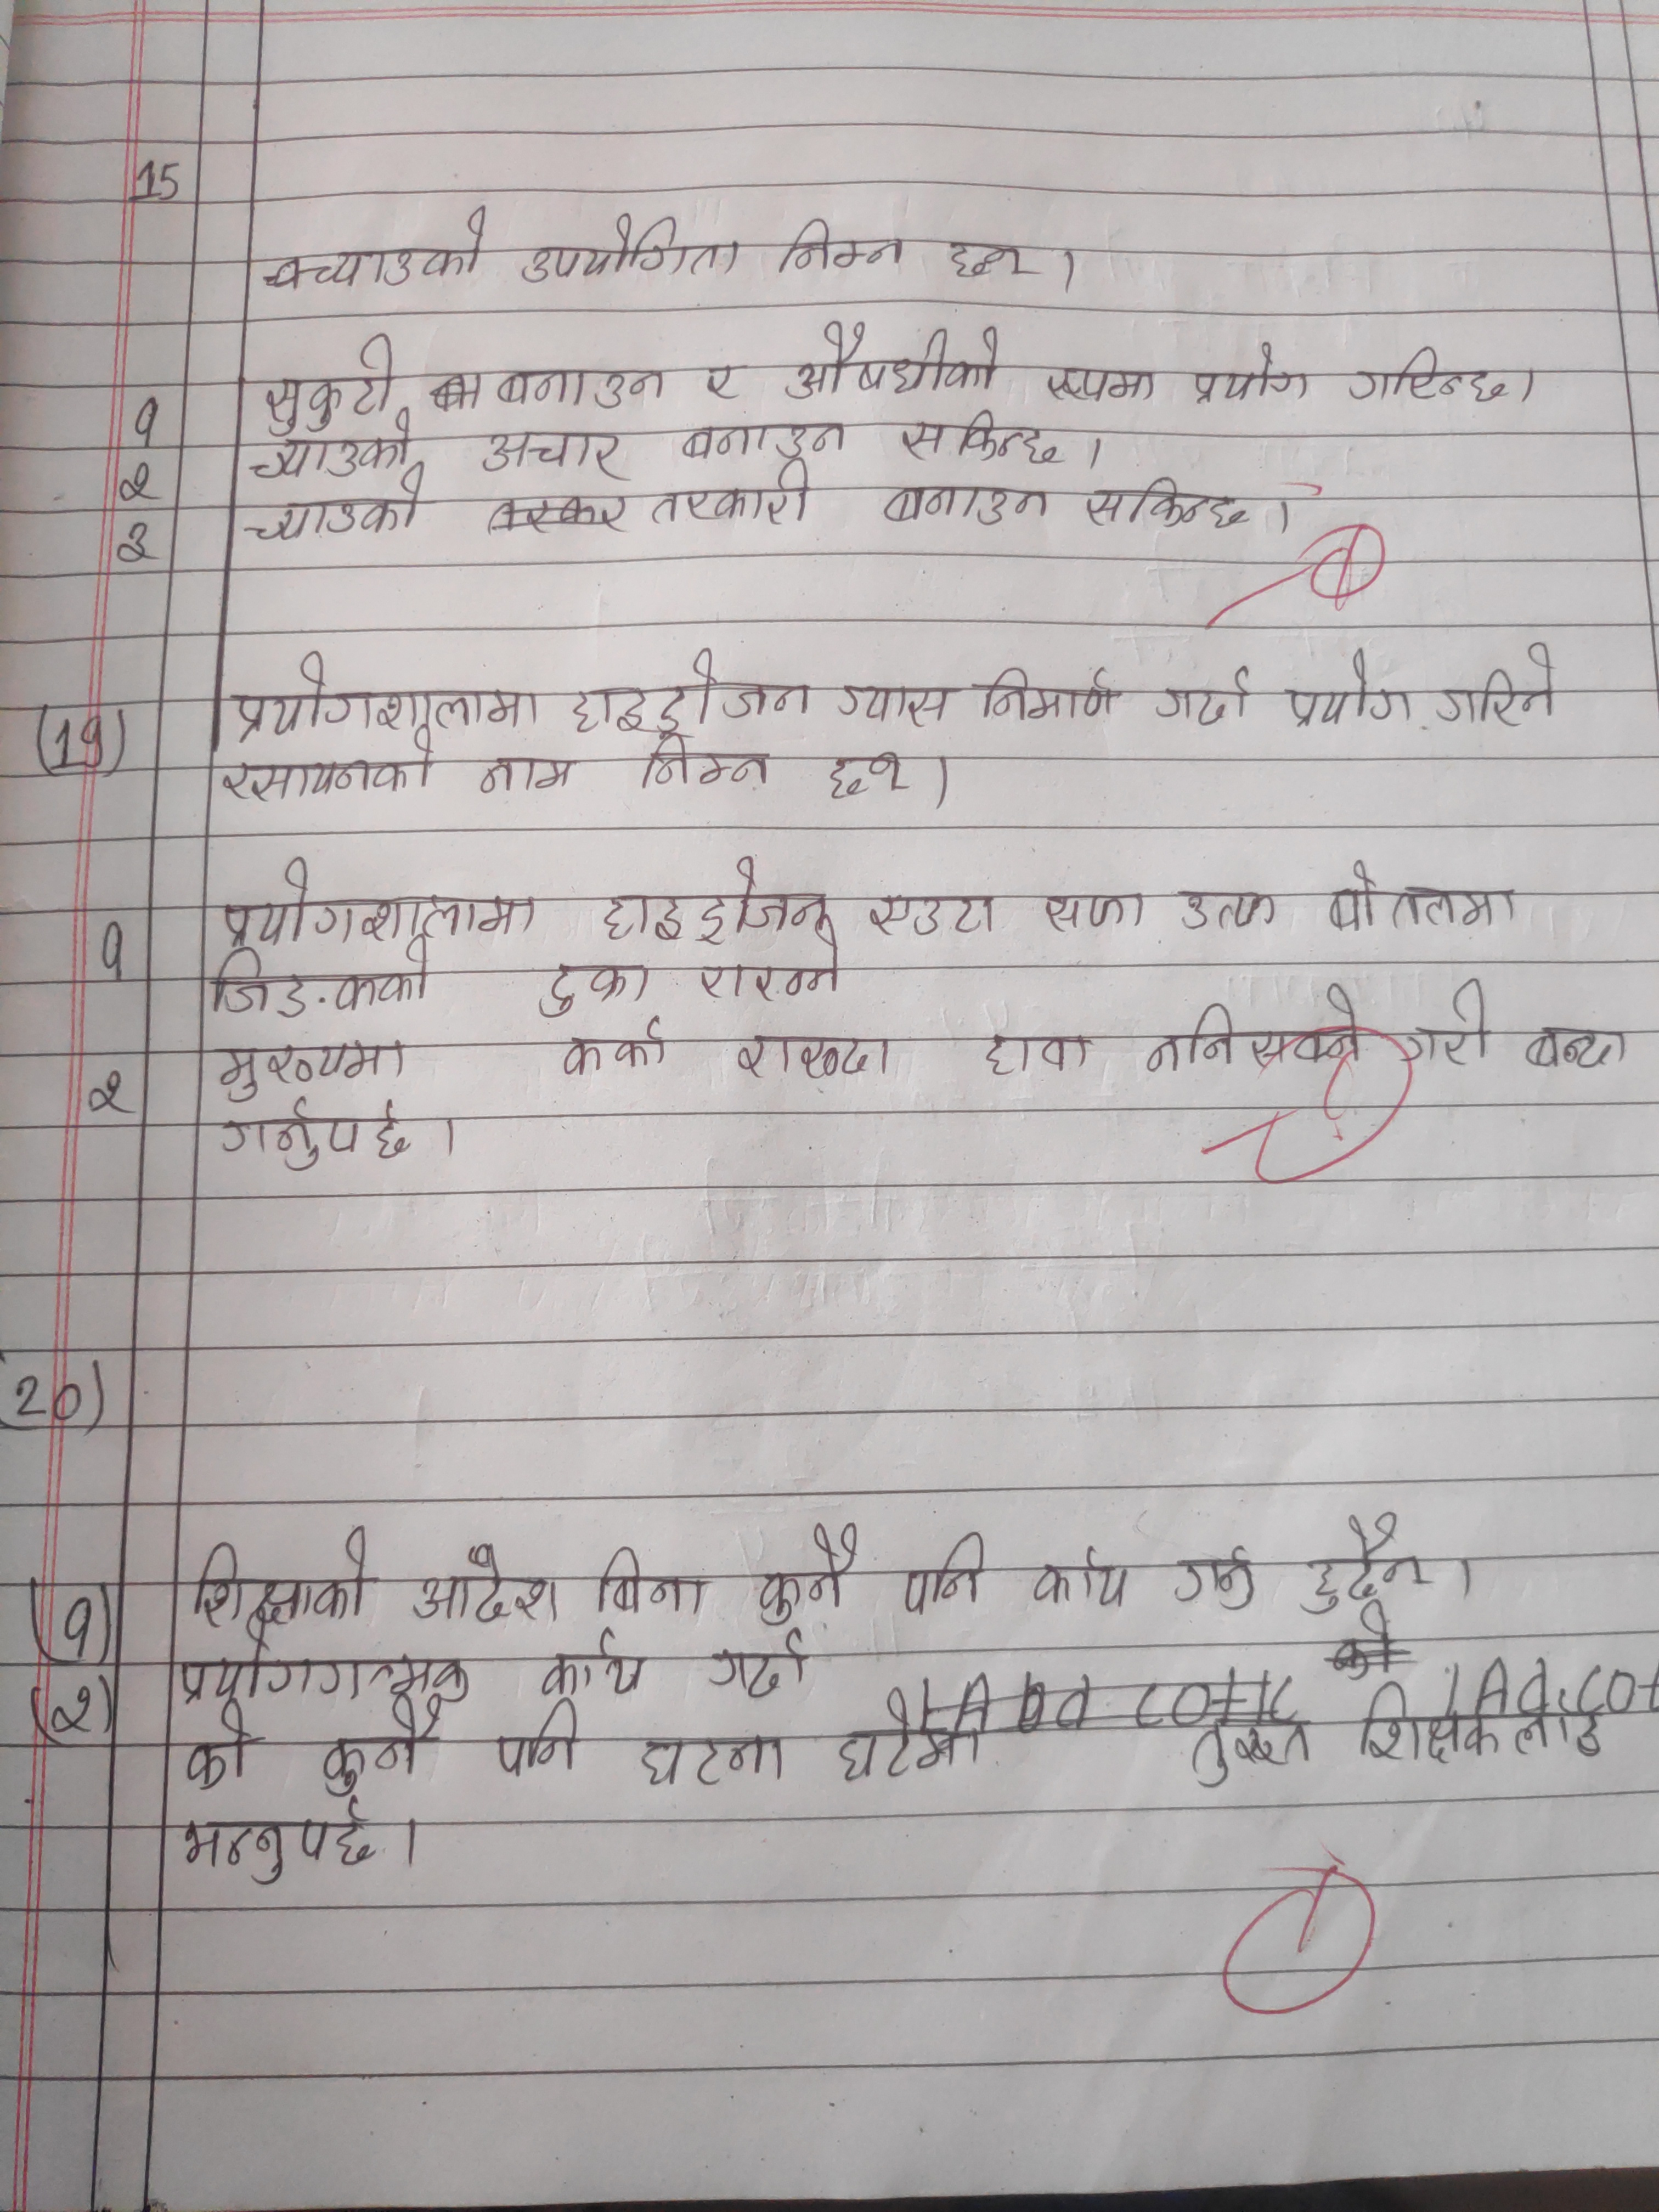text: (216, 855, 538, 942), (228, 651, 545, 735), (1131, 981, 1375, 1085), (171, 1627, 481, 1707), (568, 650, 824, 738), (596, 859, 830, 949), (1366, 1686, 1608, 1773), (192, 1517, 371, 1629), (207, 941, 432, 1026), (784, 322, 1006, 402), (268, 204, 488, 284), (174, 1799, 380, 1885), (213, 1094, 418, 1174), (523, 212, 746, 286), (824, 1688, 981, 1789), (1321, 859, 1527, 935), (213, 737, 448, 799), (310, 1696, 450, 1801), (207, 1031, 413, 1101), (406, 1541, 565, 1630), (260, 331, 399, 430), (1300, 1514, 1432, 1611), (756, 1517, 866, 1627), (1427, 646, 1567, 732), (897, 402, 1075, 469), (1284, 653, 1427, 735), (641, 462, 816, 528), (1082, 469, 1251, 536), (1344, 345, 1518, 409), (235, 482, 422, 540), (634, 1730, 798, 1794), (875, 477, 1053, 535), (699, 1627, 826, 1703), (732, 1033, 903, 1089), (1398, 972, 1492, 1071), (476, 428, 640, 482), (979, 665, 1124, 726), (592, 1543, 711, 1616), (1190, 1721, 1319, 1787), (903, 1527, 993, 1622), (636, 733, 779, 792), (491, 368, 671, 415), (488, 1698, 587, 1782), (861, 888, 1004, 946), (538, 1627, 650, 1700), (1032, 1541, 1140, 1616), (1187, 341, 1312, 406), (1150, 662, 1262, 733), (775, 214, 908, 273), (535, 956, 655, 1017), (676, 416, 857, 456), (1046, 354, 1155, 418), (251, 435, 413, 479), (826, 671, 957, 725), (179, 1709, 258, 1796), (694, 961, 847, 1005), (1514, 1021, 1629, 1076), (823, 745, 924, 806), (943, 230, 1053, 286), (1171, 1550, 1263, 1616), (1171, 883, 1276, 939), (979, 1029, 1094, 1080), (565, 1028, 669, 1082), (1039, 883, 1148, 932), (479, 749, 580, 798), (115, 455, 162, 510), (110, 517, 159, 568), (701, 355, 749, 402), (125, 397, 167, 446)
